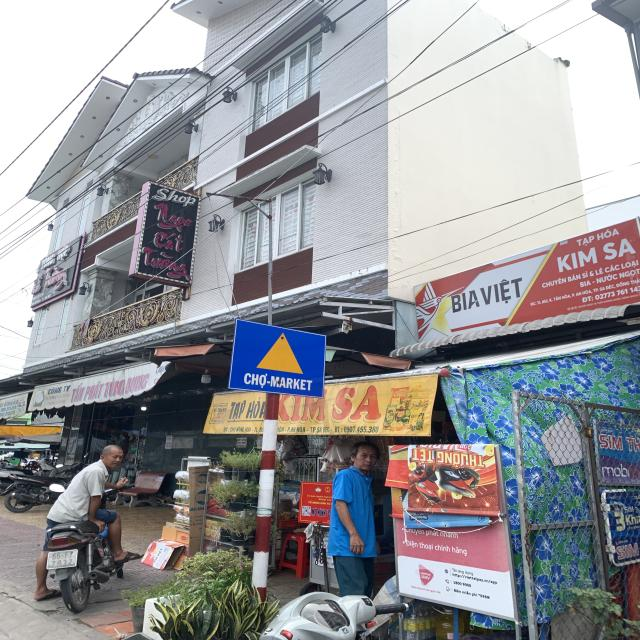Cho_Quay_Xe: (233, 319, 323, 396)
